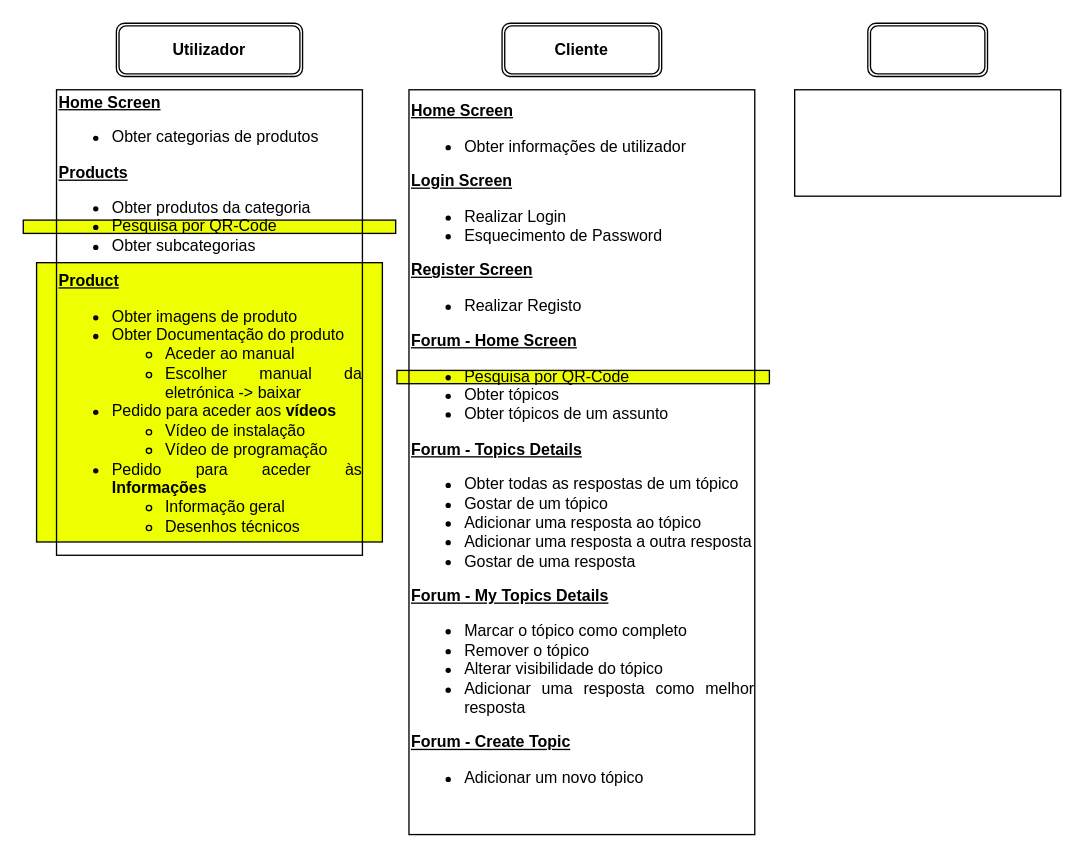
The diagram is 1084 pixels wide and 858 high, and some of its shapes have lost their labels. The shapes that lost their labels are listed below. From the top down, each one's centre as x and y in pixels, then its label:
At (x=927, y=49): "Técnico".
At (x=927, y=142): "Forum - Topics Obter tópicos privados".
